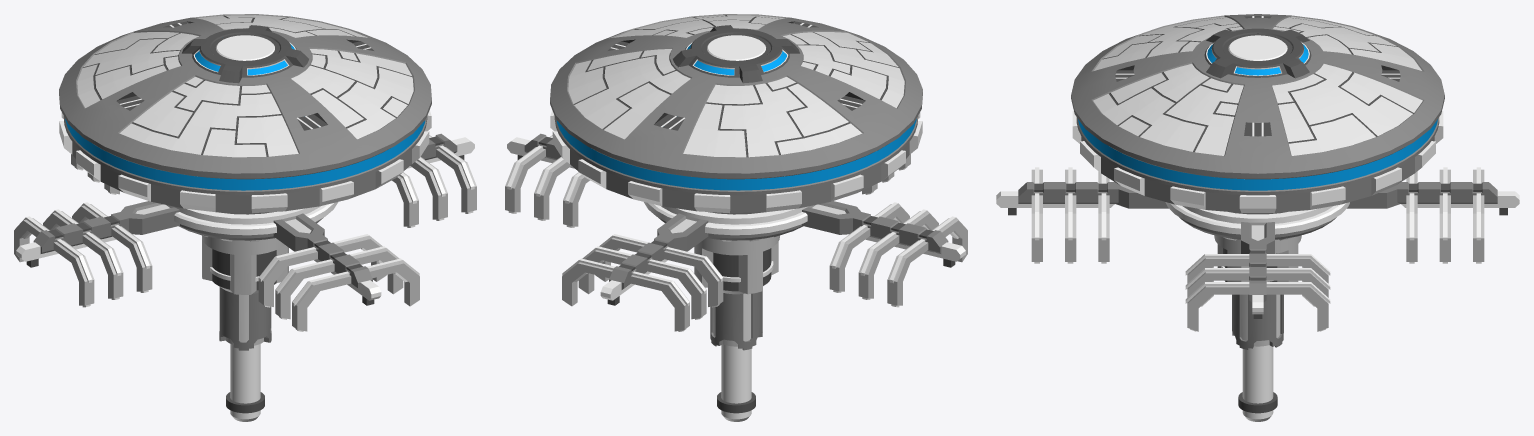
The model's file is station_03.glb.
3 views of the same model, side by side, from view 1: azimuth 30°, elevation 25°; view 2: azimuth 150°, elevation 25°; view 3: azimuth 270°, elevation 25° (orthographic).
Visible parts, largest first — view 1: Mesh_HD.001, Docking_HD, Ring_HD; view 2: Mesh_HD.001, Docking_HD, Ring_HD; view 3: Mesh_HD.001, Docking_HD, Ring_HD.
Part boxes in pixels (bbox=[...]): Mesh_HD.001: bbox=[59, 14, 431, 421]; Docking_HD: bbox=[14, 133, 476, 331]; Ring_HD: bbox=[63, 116, 427, 195]; Mesh_HD.001: bbox=[550, 14, 922, 421]; Docking_HD: bbox=[505, 133, 967, 331]; Ring_HD: bbox=[554, 116, 918, 195]; Mesh_HD.001: bbox=[1071, 14, 1444, 421]; Docking_HD: bbox=[996, 167, 1519, 331]; Ring_HD: bbox=[1076, 117, 1439, 195].
Size of the model in its own units: 24 by 18.7 by 24.
